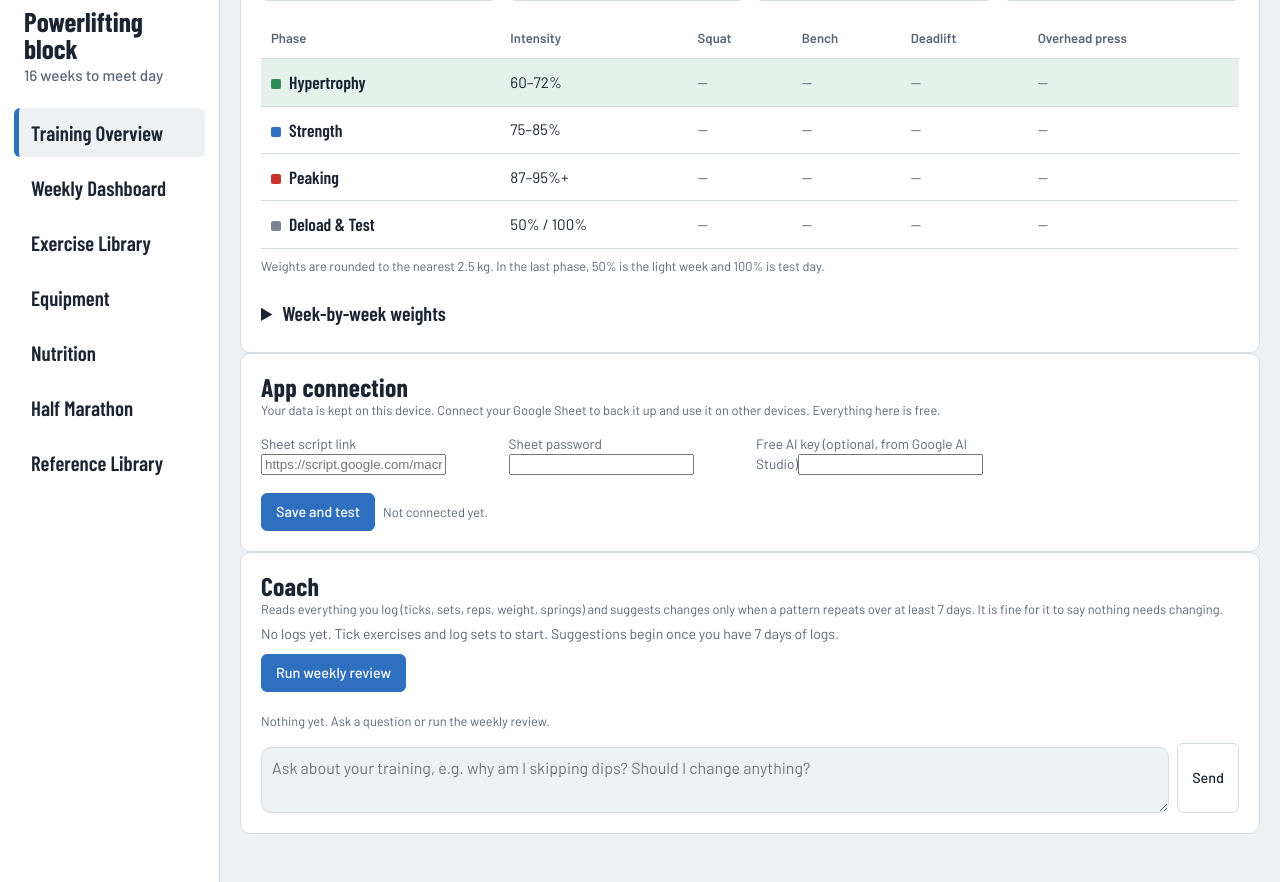
Test: overview, coach and connection › saves and tests the sheet connection
The image size is (1280, 882).
(page scrolled)
Type "https://script.google.com/macros/s/x/exec" into the field with id "acurl". click: x=354, y=465
box: [261, 454, 446, 476]
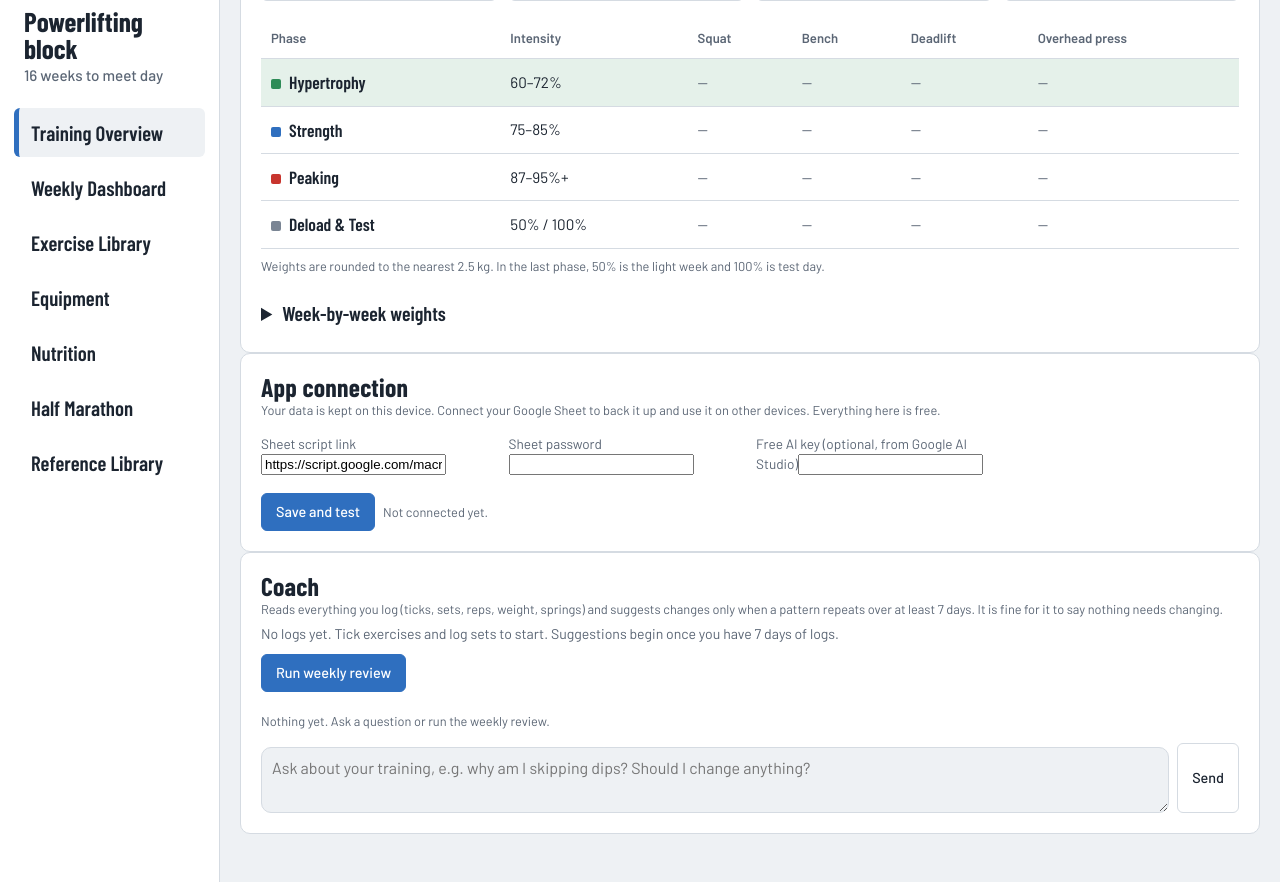
Type "wrong" into the password field with id "actoken". click: x=601, y=465
box: [508, 454, 694, 476]
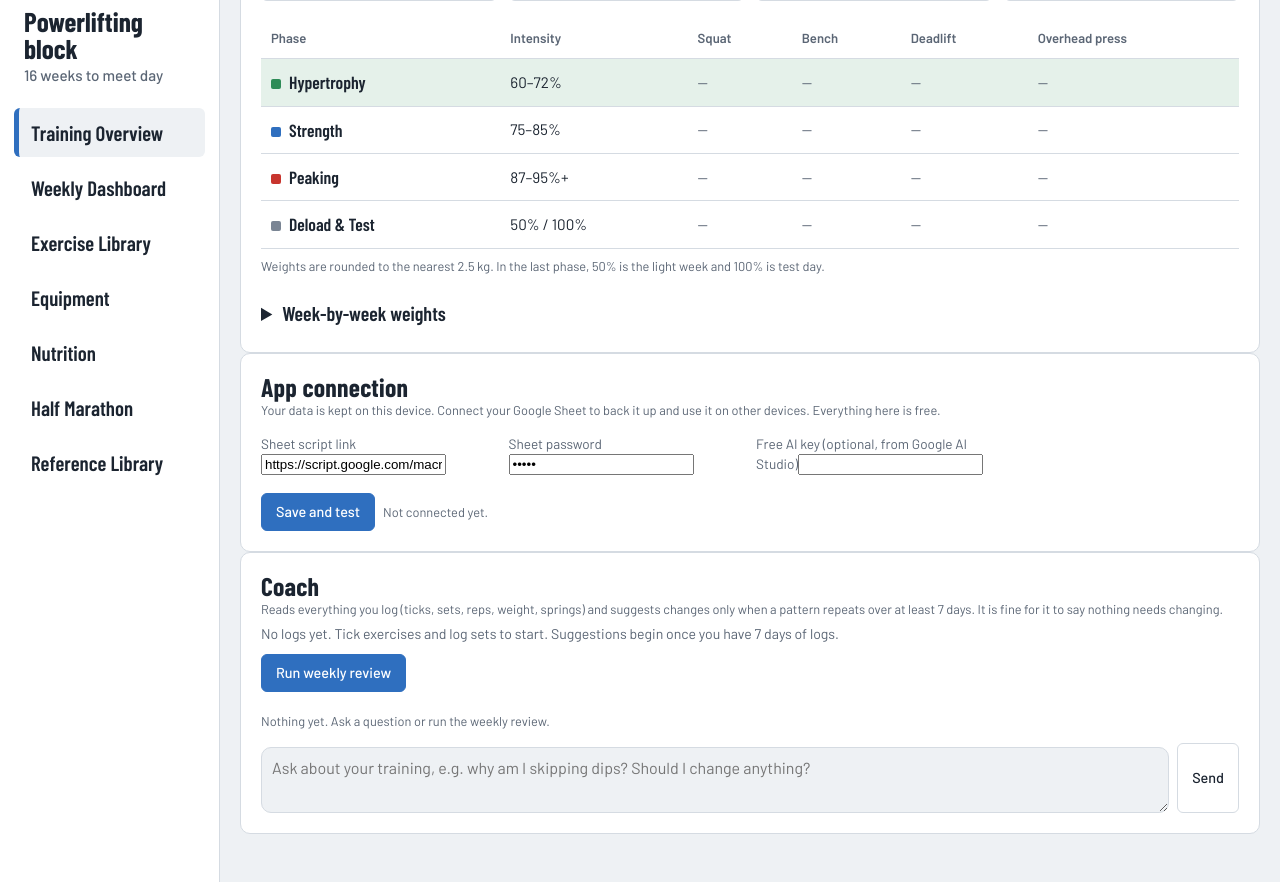
Click the button with id "acsave". click: x=318, y=512
box: [261, 494, 375, 531]
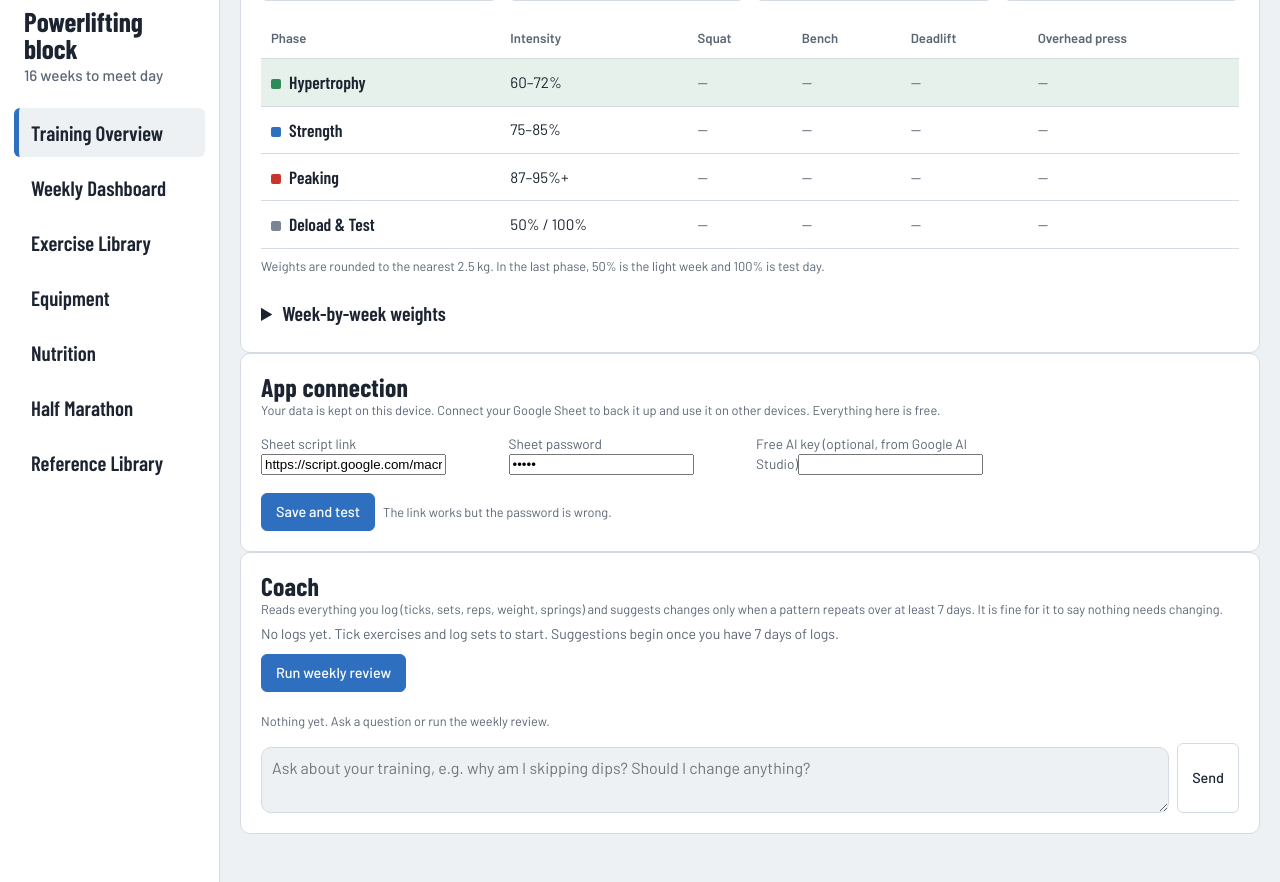
Now the text with id "acstat" shows "password is wrong", box [383, 504, 612, 520]
Type "pw" into the password field with id "actoken". click: x=601, y=465
box: [508, 454, 694, 476]
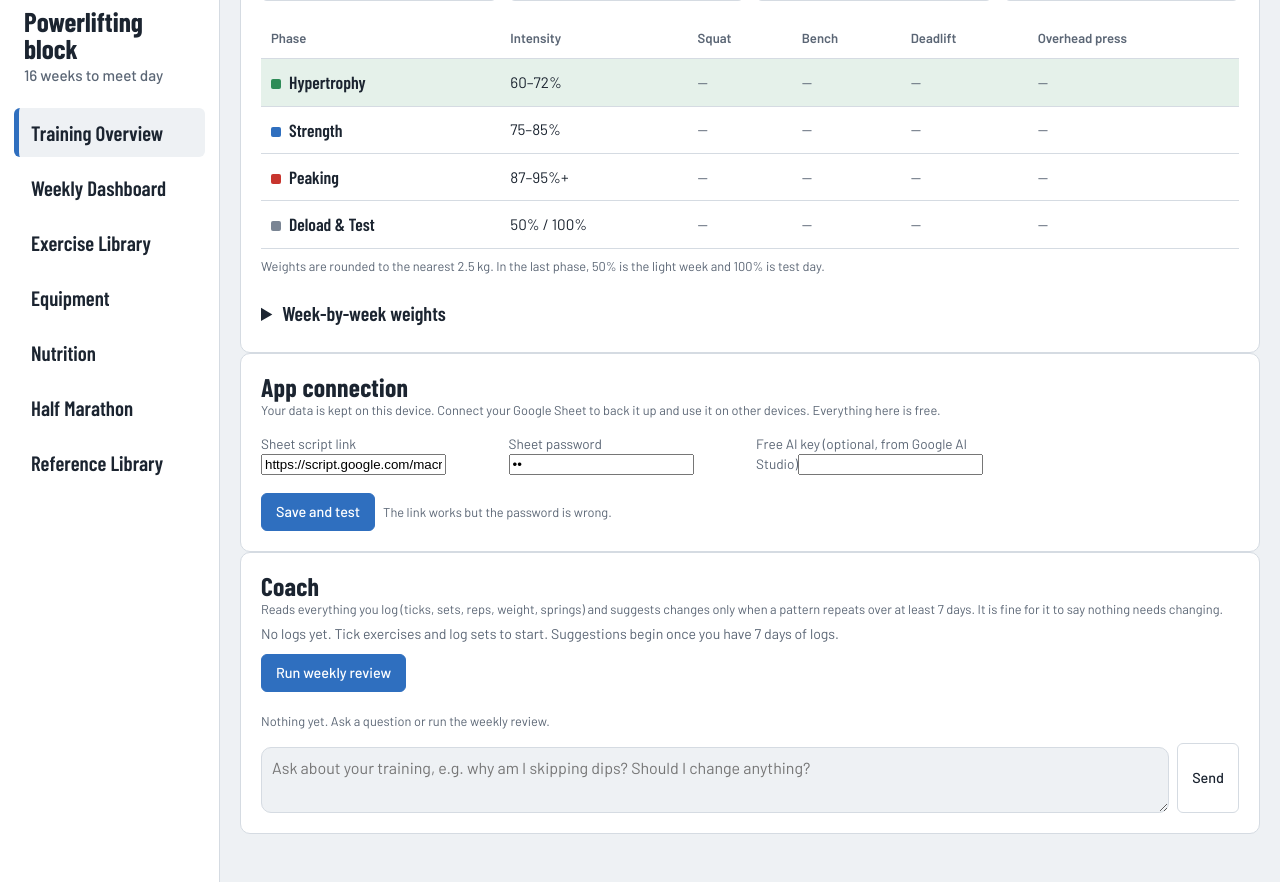
Click the button with id "acsave". click: x=318, y=512
box: [261, 494, 375, 531]
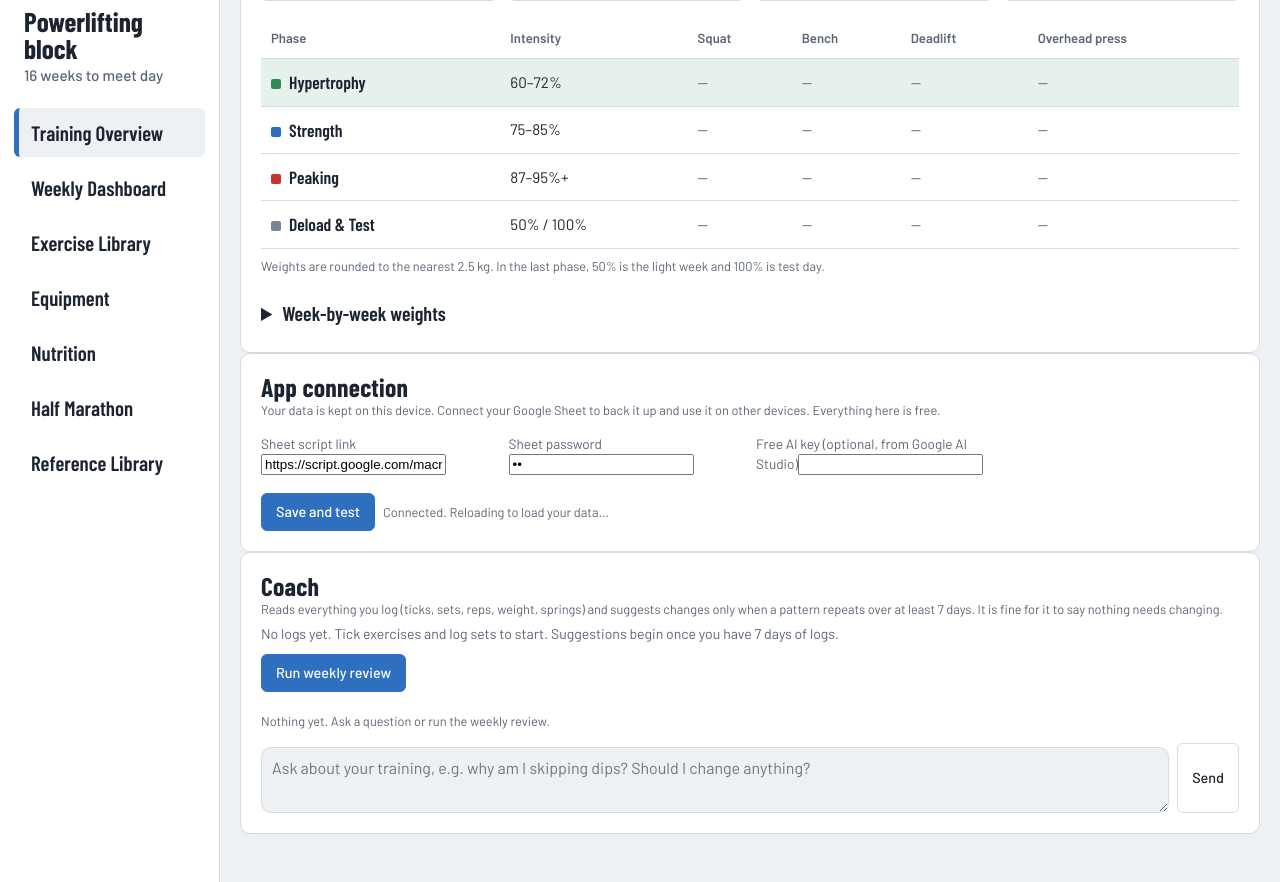
Now the text with id "acstat" shows "Connected", box [383, 504, 609, 520]
